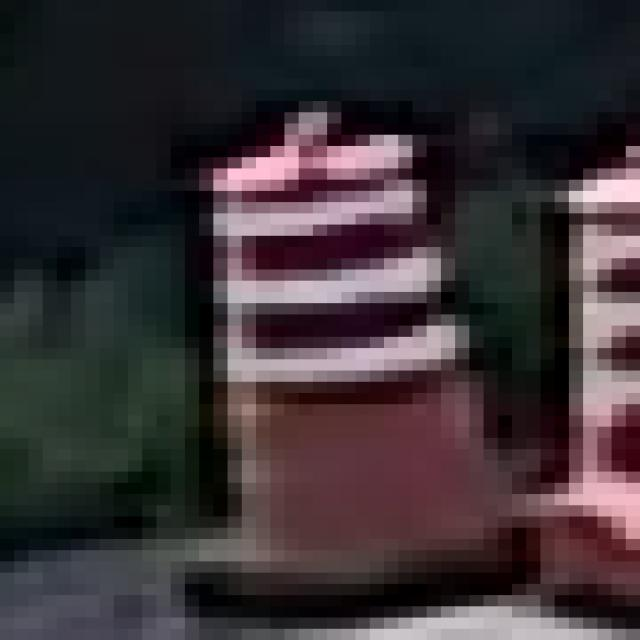big_cone: (218, 152, 450, 576)
